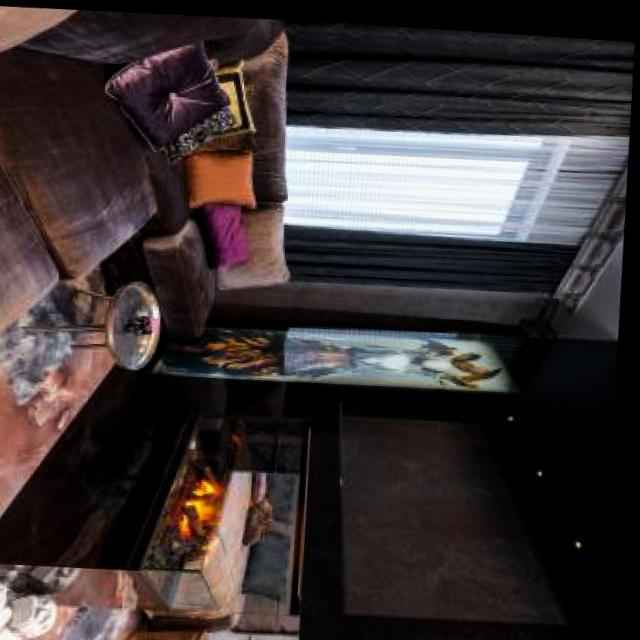helmet: (168, 461, 243, 540)
